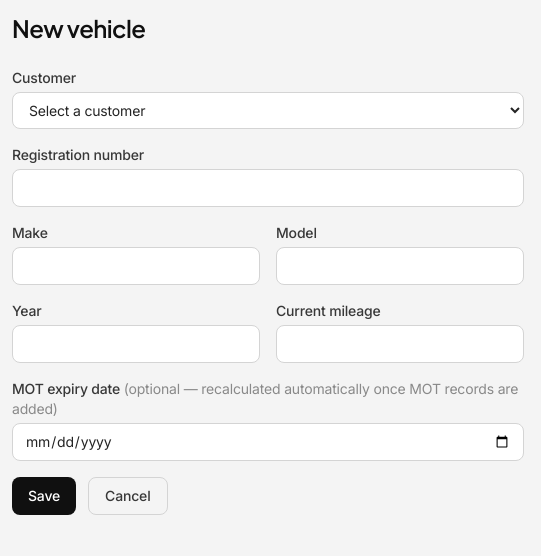
Test case: VehicleForm — submitting › surfaces a duplicate registration as a field error
Select "Oliver Bennett" in the dropdown labelled "Customer" at coordinates (268, 110), box x1=12 y1=92 x2=524 y2=129
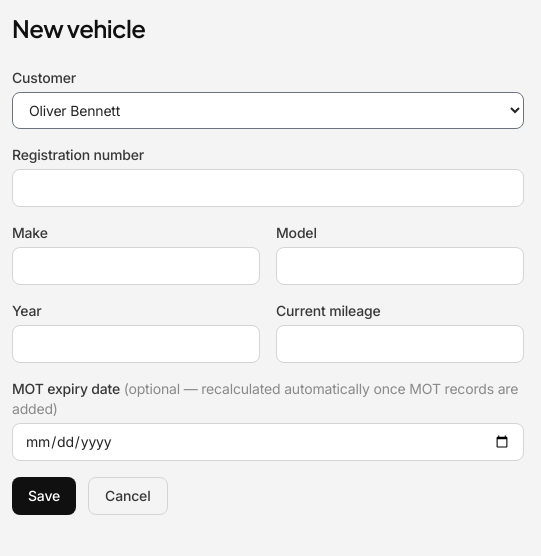
Type "OB08AUD" into the field labelled "Registration number".
click(268, 188); type("OB08AUD")  # box x1=12 y1=169 x2=524 y2=207
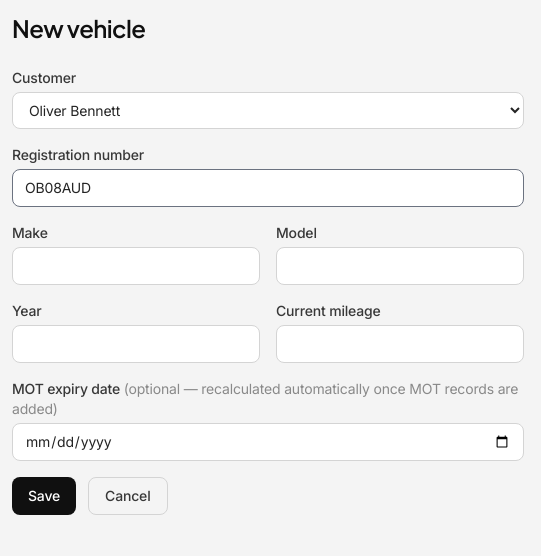
Click the button "Save".
click(44, 496)  # box x1=12 y1=477 x2=76 y2=515
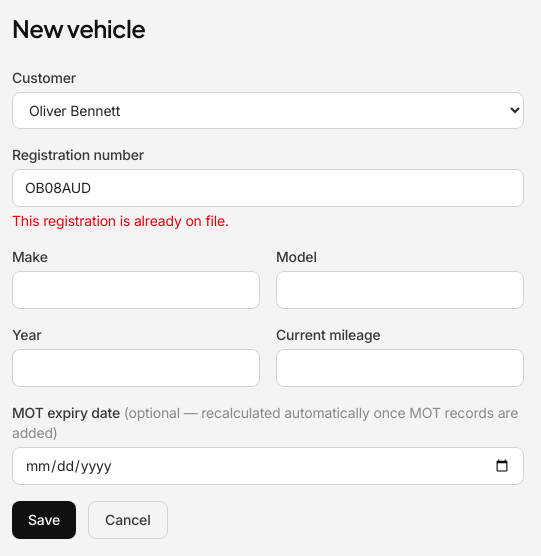
Check: the text "This registration is already on file." is shown, box x1=12 y1=212 x2=229 y2=229
